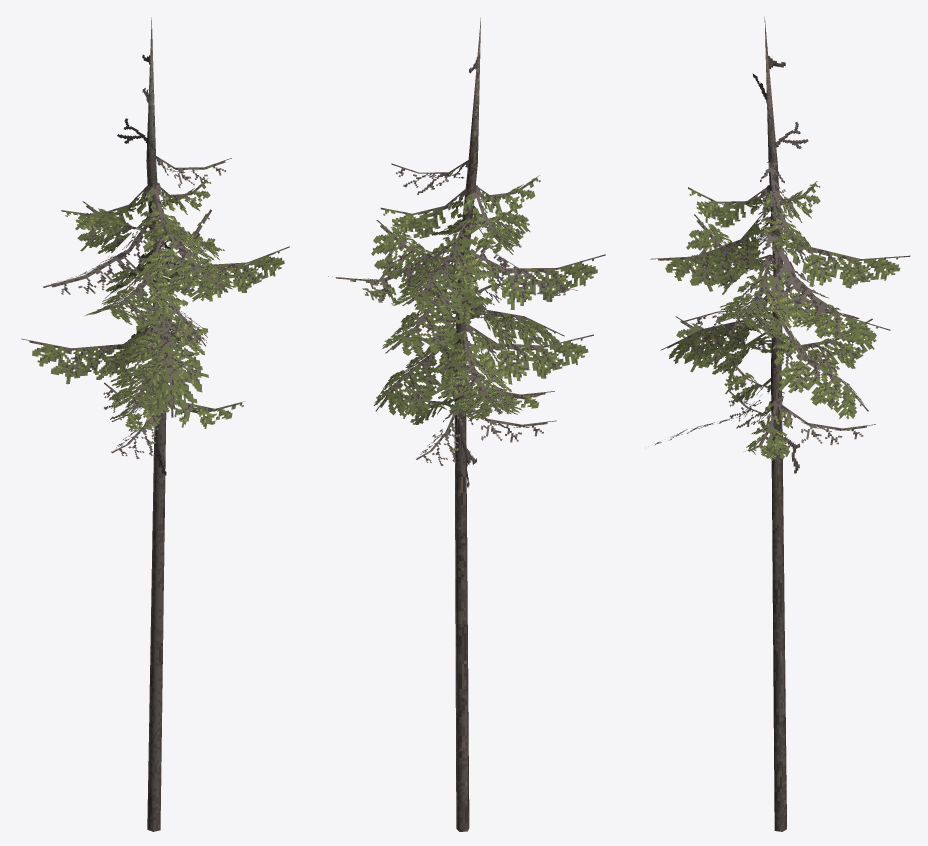
File: Spruce4.glb
The picture shows the model from 3 angles, left to right: view 1: azimuth 30°, elevation 25°; view 2: azimuth 150°, elevation 25°; view 3: azimuth 270°, elevation 25°; orthographic projection.
Parts seen in each view (by area): view 1: Spruce4; view 2: Spruce4; view 3: Spruce4.
Part boxes in pixels (x1,y1,x2,y2): Spruce4: [21, 17, 289, 831]; Spruce4: [328, 18, 605, 831]; Spruce4: [648, 17, 910, 831].
Bounding box in the file's own units: 5.09 × 16.27 × 5.02.
Materials: 2 (2 with a texture image).
